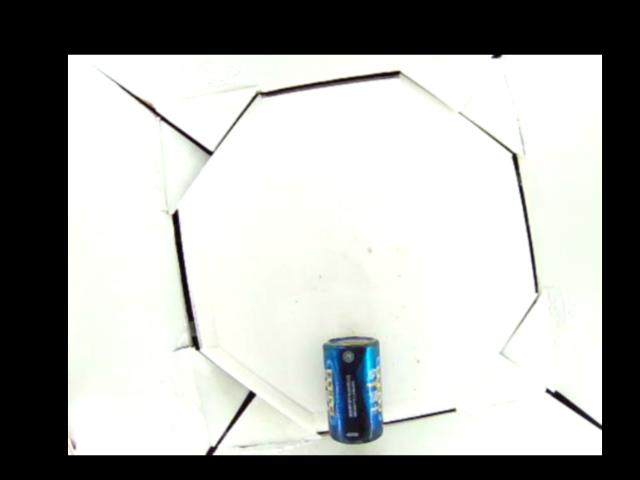Battery: (324, 335, 383, 442)
